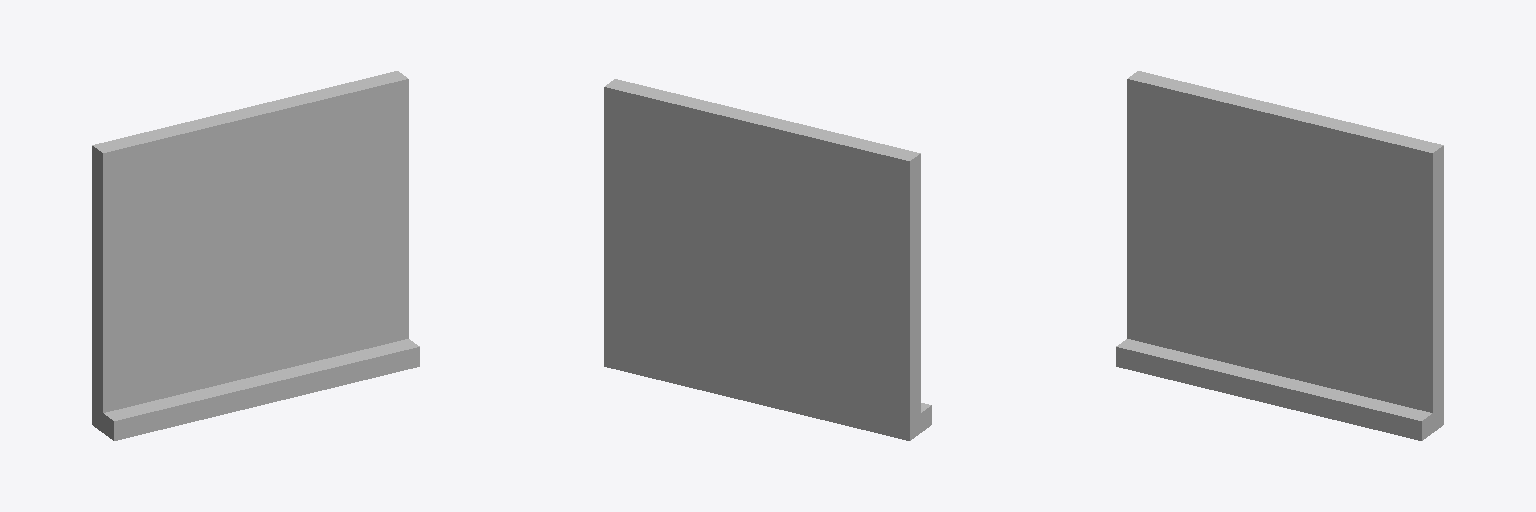
File: whiteboard.obj
The picture shows the model from 3 angles: view 1: azimuth 30°, elevation 25°; view 2: azimuth 150°, elevation 25°; view 3: azimuth 330°, elevation 25°; orthographic projection.
Visible parts, largest first — view 1: object 1; view 2: object 1; view 3: object 1.
Part boxes in pixels (bbox=[...]): object 1: bbox=[92, 71, 419, 440]; object 1: bbox=[604, 79, 931, 440]; object 1: bbox=[1116, 71, 1443, 440].
Size of the model in its own units: 1.6 by 1.4 by 0.2.